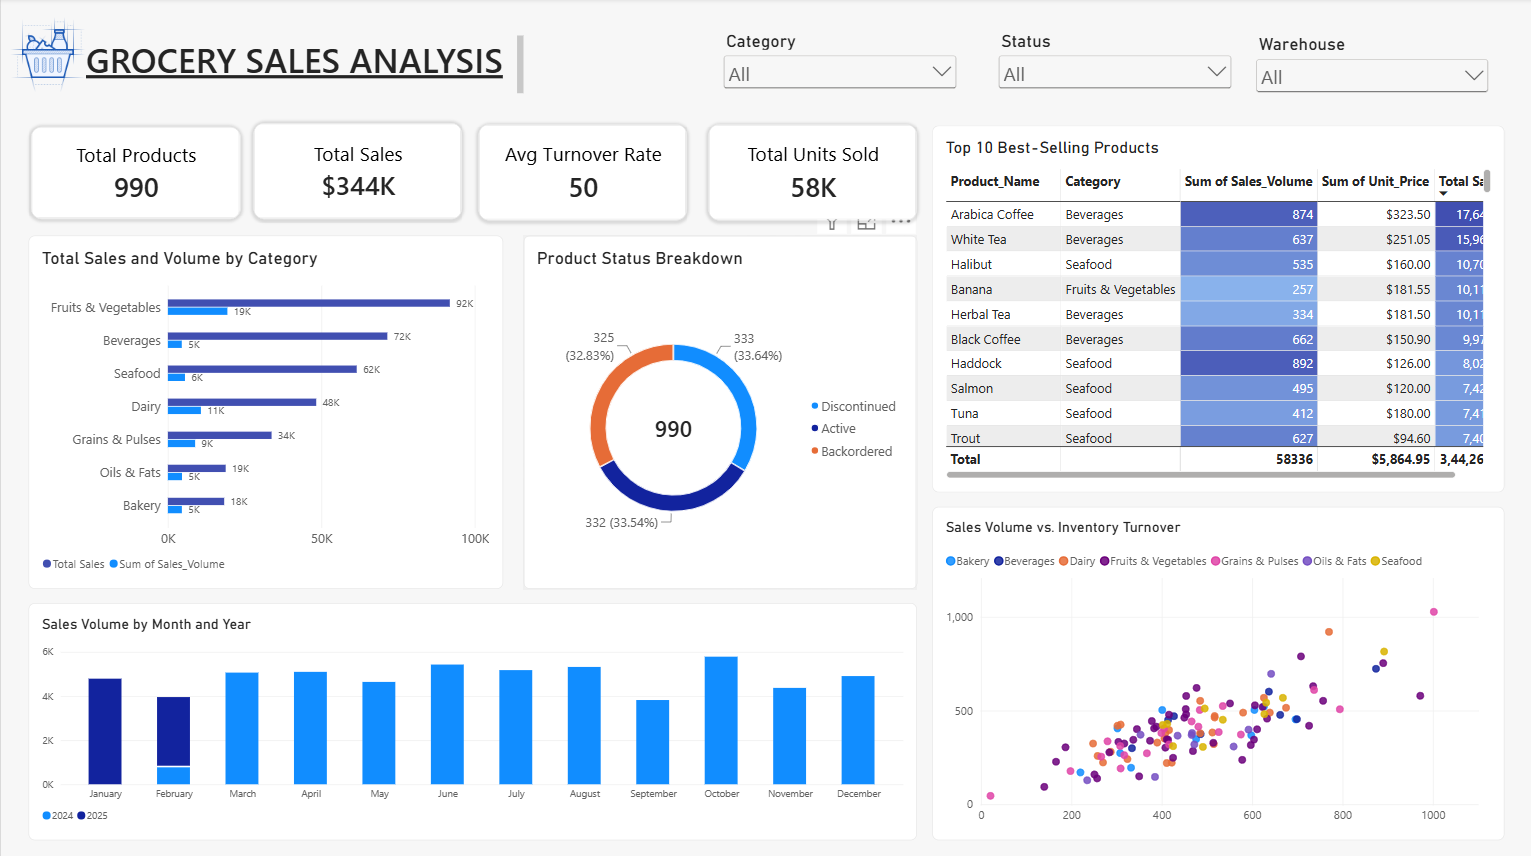

What the dashboard file says about the page in this screenshot:
{"tool":"powerbi","page":{"name":"Page 1","canvas":[1920,1080],"ordinal":0},"visuals":[{"type":"cardVisual","fields":{"Data":["Count(Grocery_Dataset.Product_ID)"]},"box":[39.3,159,260,120],"z":0,"group":"g1"},{"type":"clusteredBarChart","title":"Total Sales and Volume by Category","fields":{"Category":["Grocery_Dataset.Category"],"Y":["Measures (2).Total Sales","Sum(Grocery_Dataset.Sales_Volume)"]},"box":[34.1,295.9,591.7,441],"z":0},{"type":"donutChart","title":"Product Status Breakdown","fields":{"Category":["Grocery_Dataset.Status"],"Y":["CountNonNull(Grocery_Dataset.Product_ID)"]},"box":[650.9,295.9,491.3,441.1],"z":1000},{"type":"tableEx","title":"Top 10 Best-Selling Products","fields":{"Values":["Grocery_Dataset.Product_Name","Grocery_Dataset.Category","Sum(Grocery_Dataset.Sales_Volume)","Sum(Grocery_Dataset.Unit_Price)","Measures (2).Total Sales"]},"box":[1161.9,159.6,713.6,457.2],"z":2000},{"type":"scatterChart","title":"Sales Volume vs. Inventory Turnover","fields":{"Category":["Grocery_Dataset.Product_Name"],"Series":["Grocery_Dataset.Category"],"X":["Sum(Grocery_Dataset.Sales_Volume)"],"Y":["Sum(Grocery_Dataset.Inventory_Turnover_Rate)"]},"box":[1161.9,634.7,713.6,416],"z":3000},{"type":"columnChart","title":"Sales Volume by Month and Year","fields":{"Category":["Grocery_Dataset.Date_Received.Variation.Date Hierarchy.Month"],"Series":["Grocery_Dataset.Date_Received.Variation.Date Hierarchy.Year"],"Y":["Sum(Grocery_Dataset.Sales_Volume)"]},"box":[34.1,754.9,1108.1,295.9],"z":4000},{"type":"group","id":"g1","title":"Group 1","box":[39.3,155.4,1102.2,123.6],"z":5000},{"type":"textbox","box":[106,46.8,545.6,73.3],"z":6000},{"type":"slicer","fields":{"Values":["Grocery_Dataset.Category"]},"box":[896,40,300,80],"z":7000},{"type":"slicer","fields":{"Values":["Grocery_Dataset.Status"]},"box":[1240,40,300,80],"z":8000},{"type":"slicer","fields":{"Values":["Grocery_Dataset.Warehouse_Location"]},"box":[1560.6,45.8,299.8,75.8],"z":9000},{"type":"cardVisual","fields":{"Data":["Avg(Grocery_Dataset.Inventory_Turnover_Rate)"]},"box":[594.6,156.5,260,120],"z":9000,"group":"g1"},{"type":"image","box":[10.9,20.3,95.1,99.8],"z":10000},{"type":"cardVisual","fields":{"Data":["Measures (2).Total Units Sold"]},"box":[881.5,156.5,260,120],"z":10000,"group":"g1"},{"type":"cardVisual","fields":{"Data":["Measures (2).Total Sales"]},"box":[314.8,155.4,260,120],"z":12000,"group":"g1"}]}

Visuals, with their boxes in screenshot pixels (x1, y1, x2, y2), scaled from the page's 1920x1080 canvas onto the 1531x856 screenshot:
cardVisual - Count(Grocery_Dataset.Product_ID): locate(31, 126, 239, 221)
"Total Sales and Volume by Category" clusteredBarChart: locate(27, 235, 499, 584)
"Product Status Breakdown" donutChart: locate(519, 235, 911, 584)
"Top 10 Best-Selling Products" tableEx: locate(926, 126, 1496, 489)
"Sales Volume vs. Inventory Turnover" scatterChart: locate(926, 503, 1496, 833)
"Sales Volume by Month and Year" columnChart: locate(27, 598, 911, 833)
"Group 1" group: locate(31, 123, 910, 221)
textbox: locate(85, 37, 520, 95)
slicer - Grocery_Dataset.Category: locate(714, 32, 954, 95)
slicer - Grocery_Dataset.Status: locate(989, 32, 1228, 95)
slicer - Grocery_Dataset.Warehouse_Location: locate(1244, 36, 1483, 96)
cardVisual - Avg(Grocery_Dataset.Inventory_Turnover_Rate): locate(474, 124, 681, 219)
image: locate(9, 16, 85, 95)
cardVisual - Measures (2).Total Units Sold: locate(703, 124, 910, 219)
cardVisual - Measures (2).Total Sales: locate(251, 123, 458, 218)
